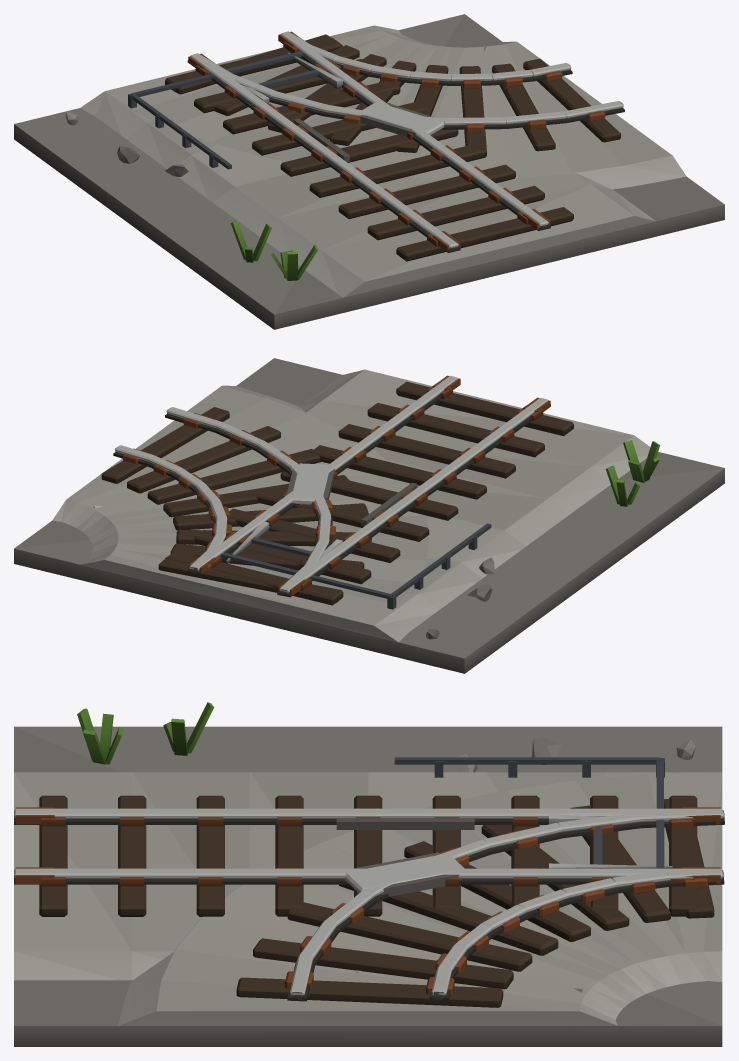
The model's file is track-points-right-t-tile.glb.
3 views of the same model, one above another, from view 1: azimuth 30°, elevation 25°; view 2: azimuth 150°, elevation 25°; view 3: azimuth 270°, elevation 25° (orthographic). The views are drawn at different scales.
Parts seen in each view (by area): view 1: track_points_right_t_tile; view 2: track_points_right_t_tile; view 3: track_points_right_t_tile.
Boxes of the visible parts, x1,y1,x2,y2 form: track_points_right_t_tile: [14, 14, 724, 329]; track_points_right_t_tile: [14, 358, 724, 673]; track_points_right_t_tile: [14, 702, 724, 1046].
Size of the model in its own units: 4.01 by 0.41 by 4.01.
